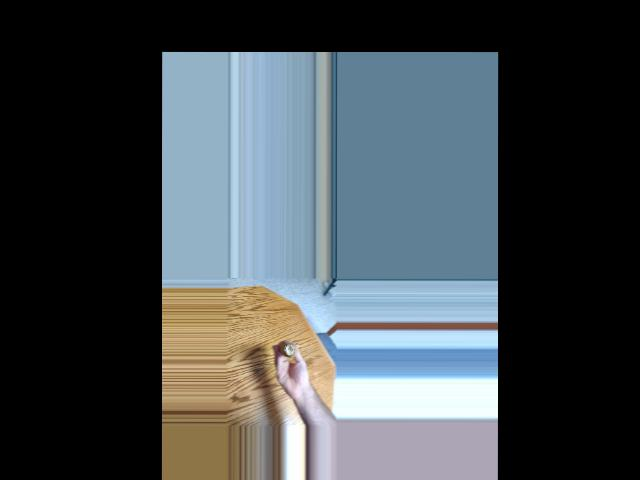sweet_potato: (282, 337, 298, 356)
